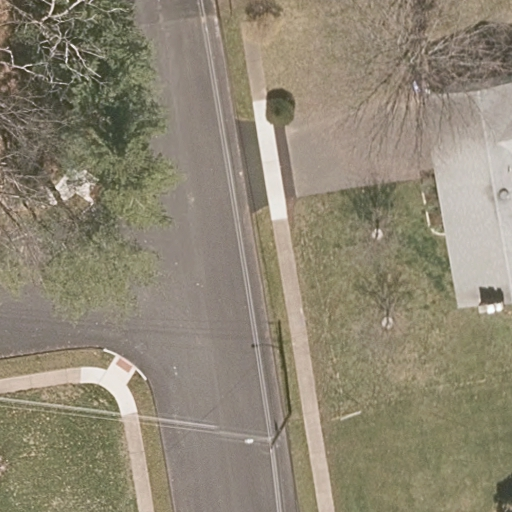DT: (268, 411, 293, 453)
